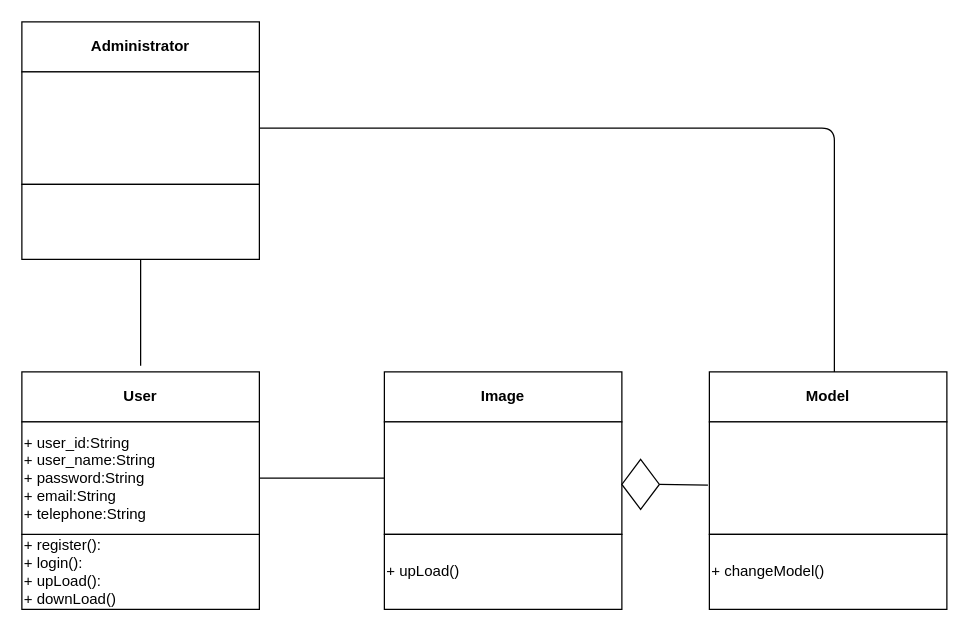
This 969x631 diagram has some shape labels left out. The centre of each missing label's shape, as x and y in pixels:
"+ admin_id:String + admin_name :String + password:String" goes at point 140,127.
"+ image_id:String + image_name :String + image:image" goes at point 502,477.
"+ login(): + manageUser() + manageModel()" goes at point 140,221.
"+ model_id:String + model_version:Float" goes at point 827,477.
